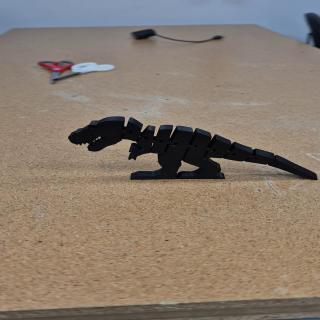dino: (67, 116, 319, 181)
